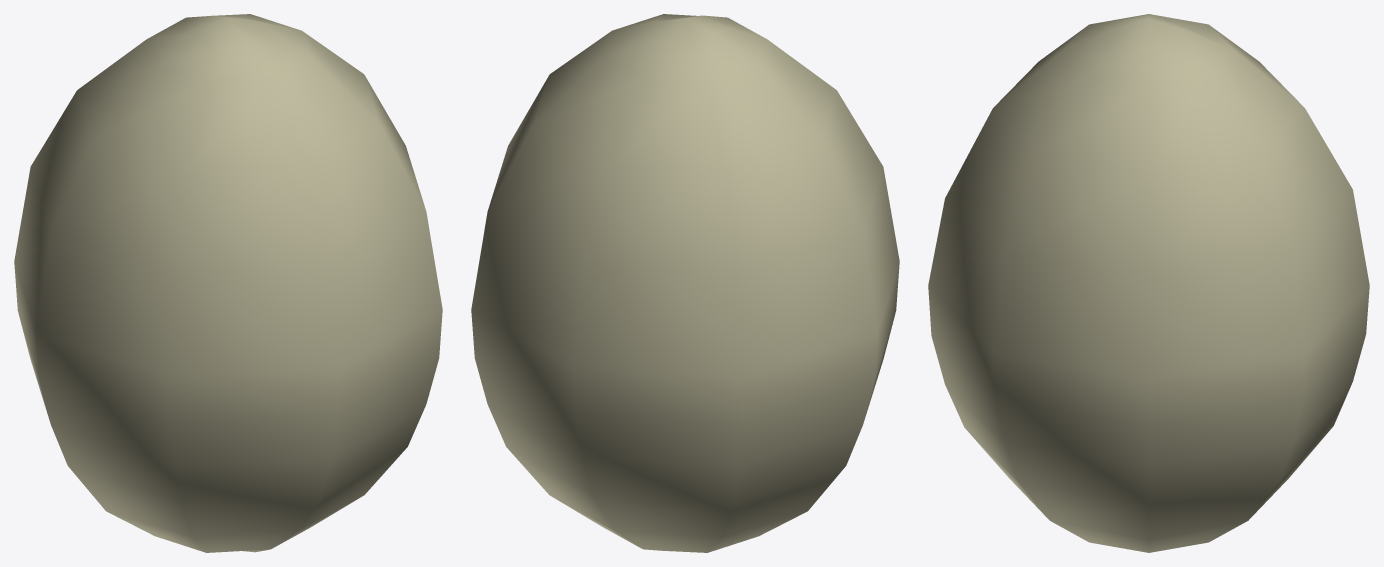
3 renders of one model, left to right at view 1: azimuth 30°, elevation 25°; view 2: azimuth 150°, elevation 25°; view 3: azimuth 270°, elevation 25°, orthographic.
Parts seen in each view (by area): view 1: failedExperiment_03; view 2: failedExperiment_03; view 3: failedExperiment_03.
Boxes of the visible parts, bbox=[...] form: failedExperiment_03: bbox=[14, 14, 442, 552]; failedExperiment_03: bbox=[471, 14, 899, 552]; failedExperiment_03: bbox=[928, 14, 1369, 552].
Bounding box in the file's own units: 53.27 × 68.44 × 53.27.
